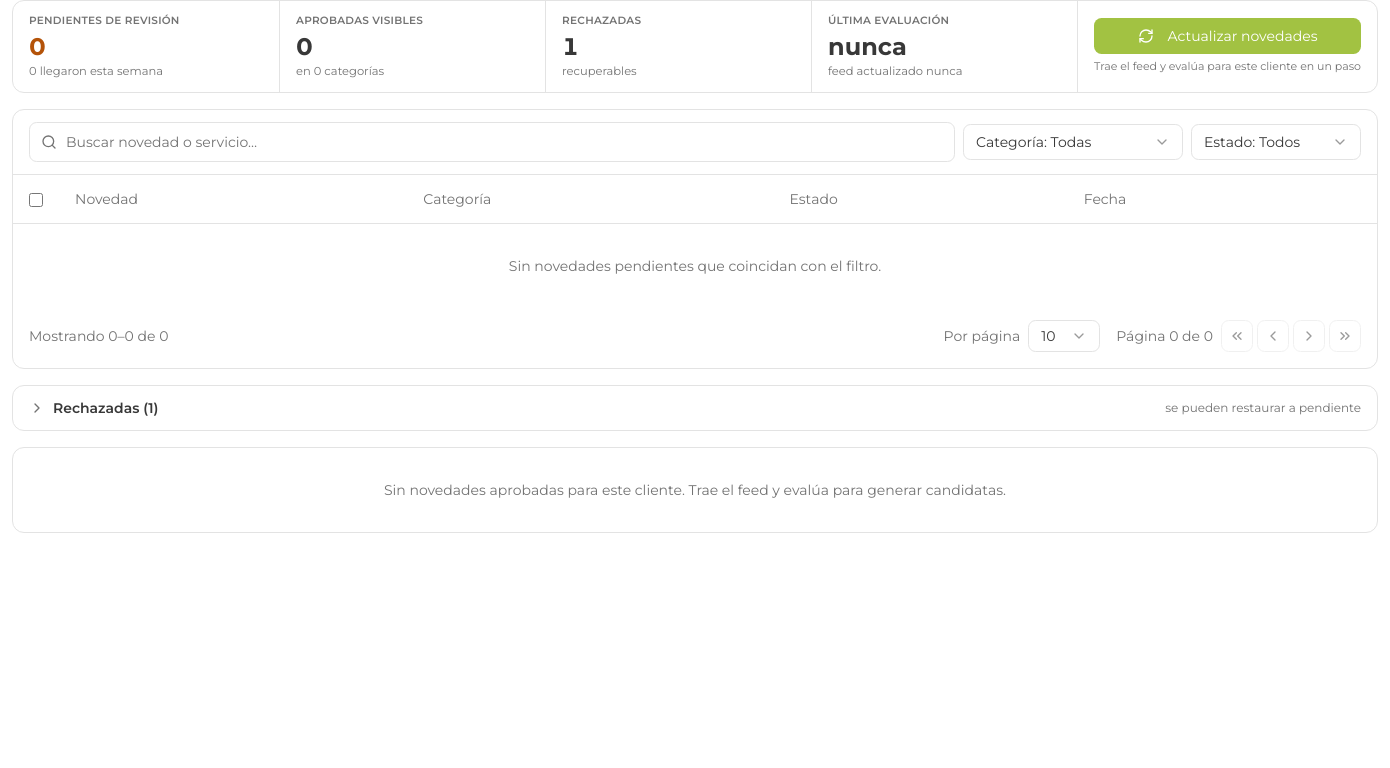
it: decidido_at se muestra como día de Quito, no como día UTC
Click the text "Rechazadas (1)" at [106, 408], box [53,398,158,418]
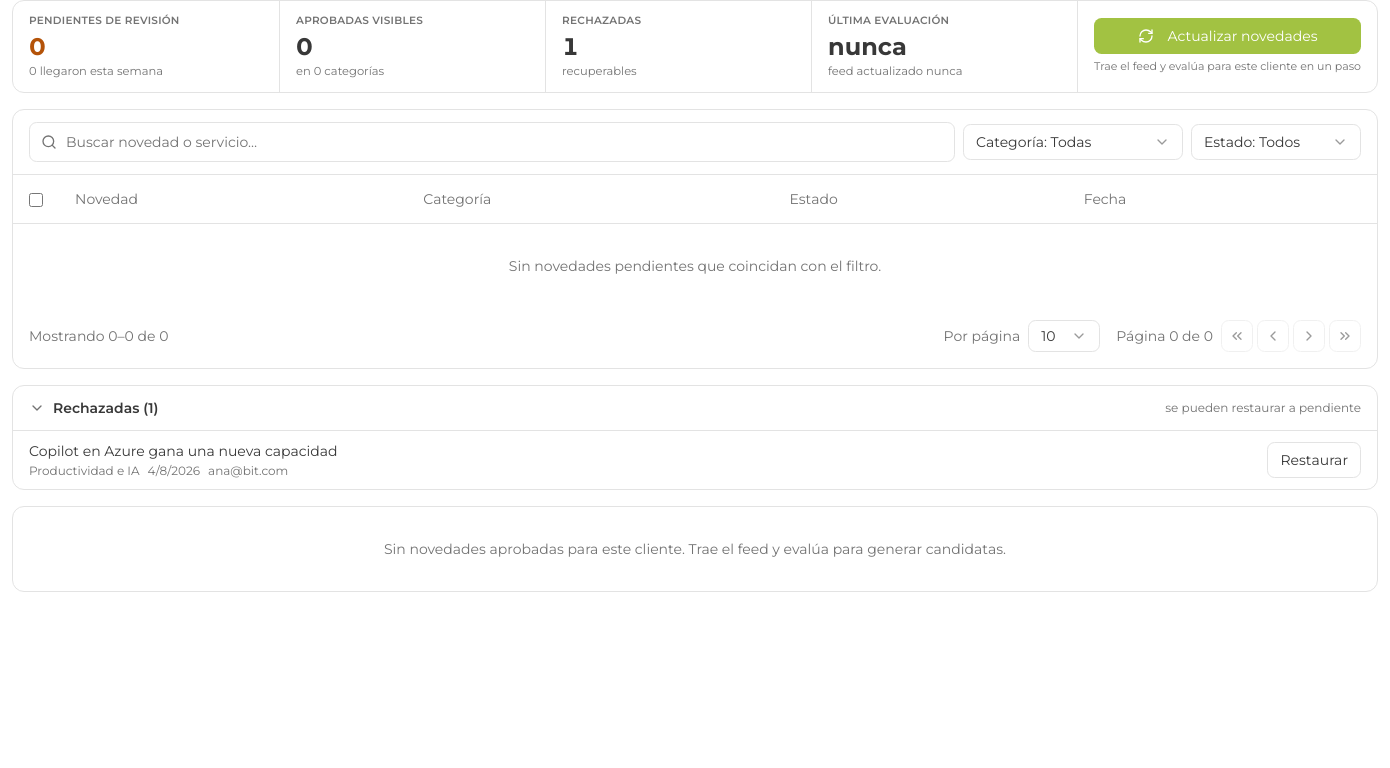
Check: the text "4/8/2026" is shown, box [148,462,200,478]
